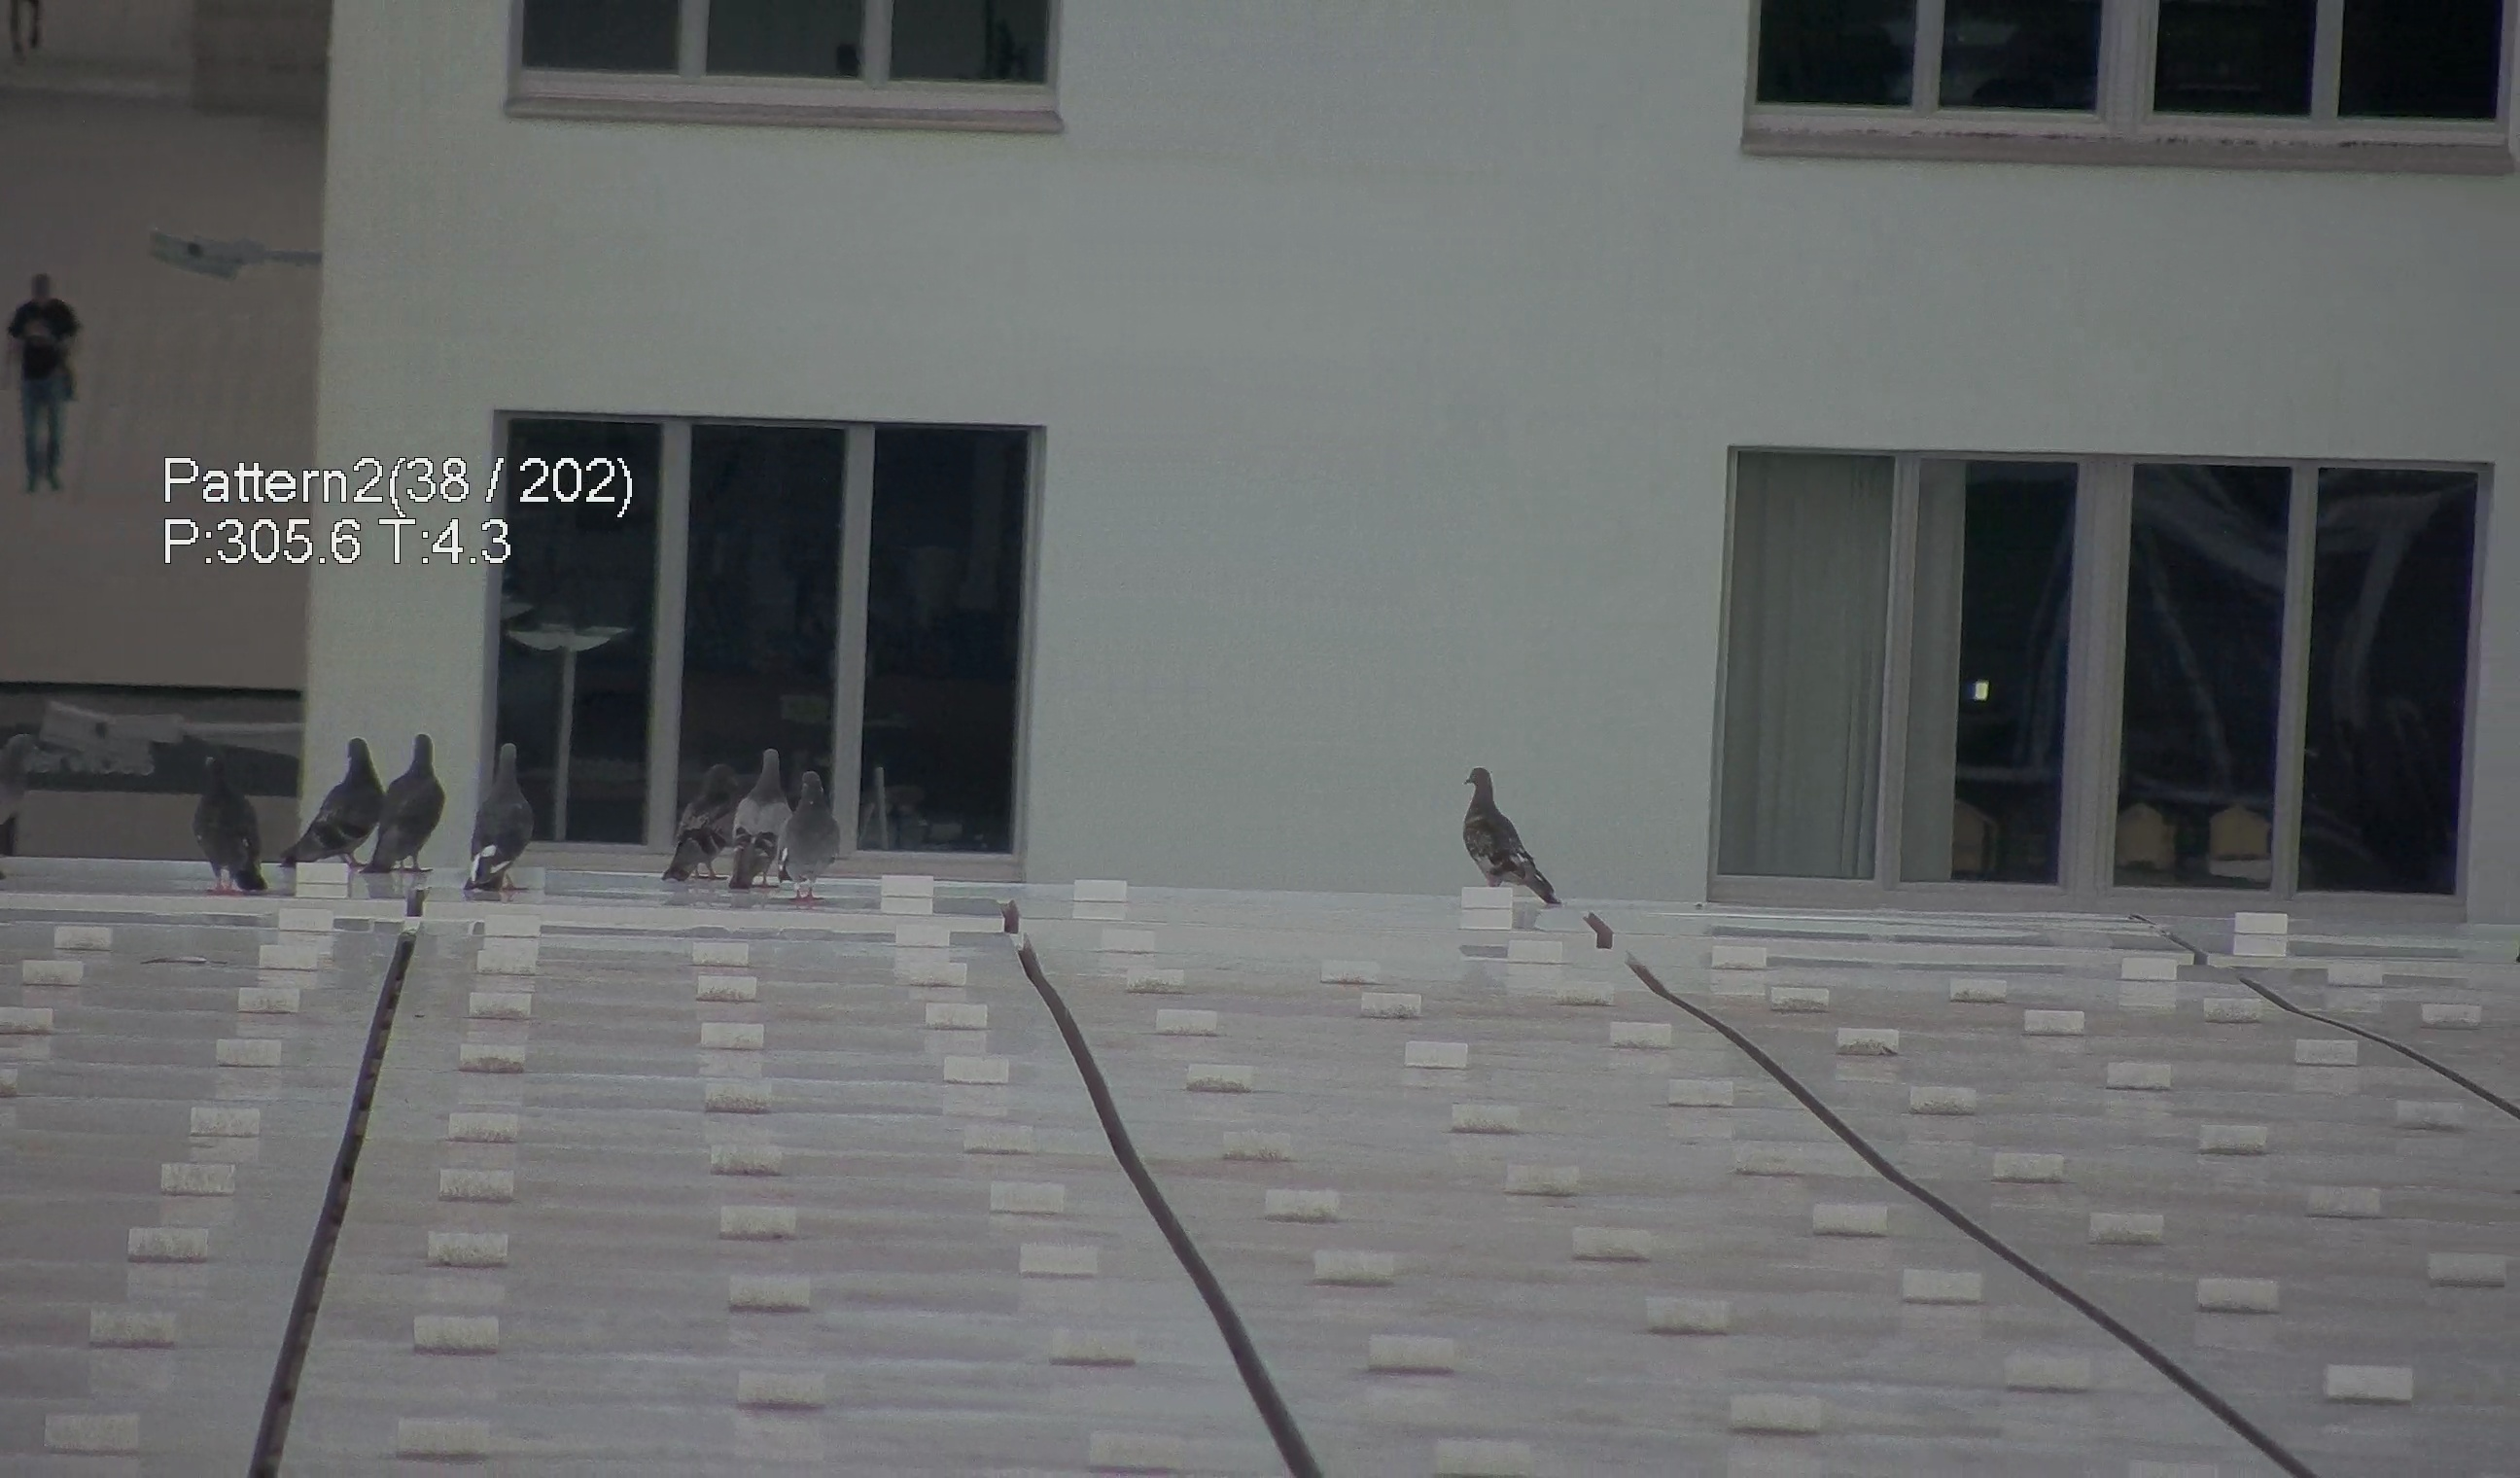Pigeon: (1451, 758, 1570, 920), (171, 746, 283, 906), (637, 743, 744, 892), (287, 727, 389, 876), (361, 734, 454, 876), (457, 744, 536, 897), (725, 741, 798, 892), (788, 764, 853, 908)
